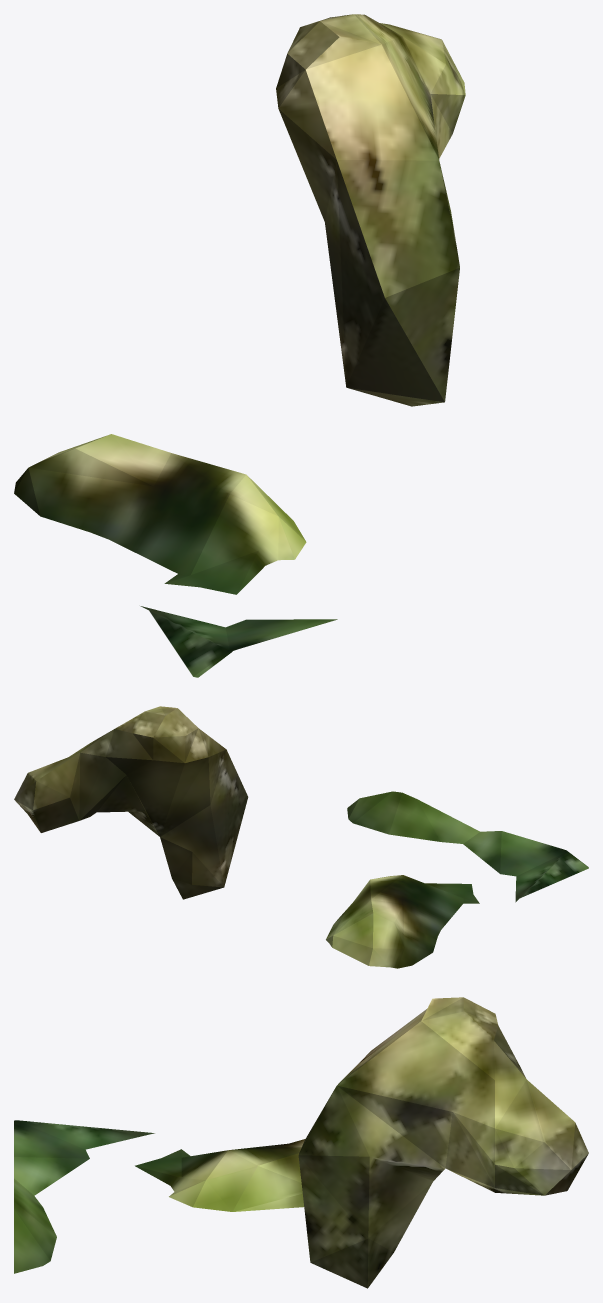
3 renders of one model, top to bottom at view 1: azimuth 30°, elevation 25°; view 2: azimuth 150°, elevation 25°; view 3: azimuth 270°, elevation 25°, orthographic. The views are drawn at different scales.
Bounding box in the file's own units: 0.3701 × 0.2133 × 0.395.
1 material, 1 textured.
